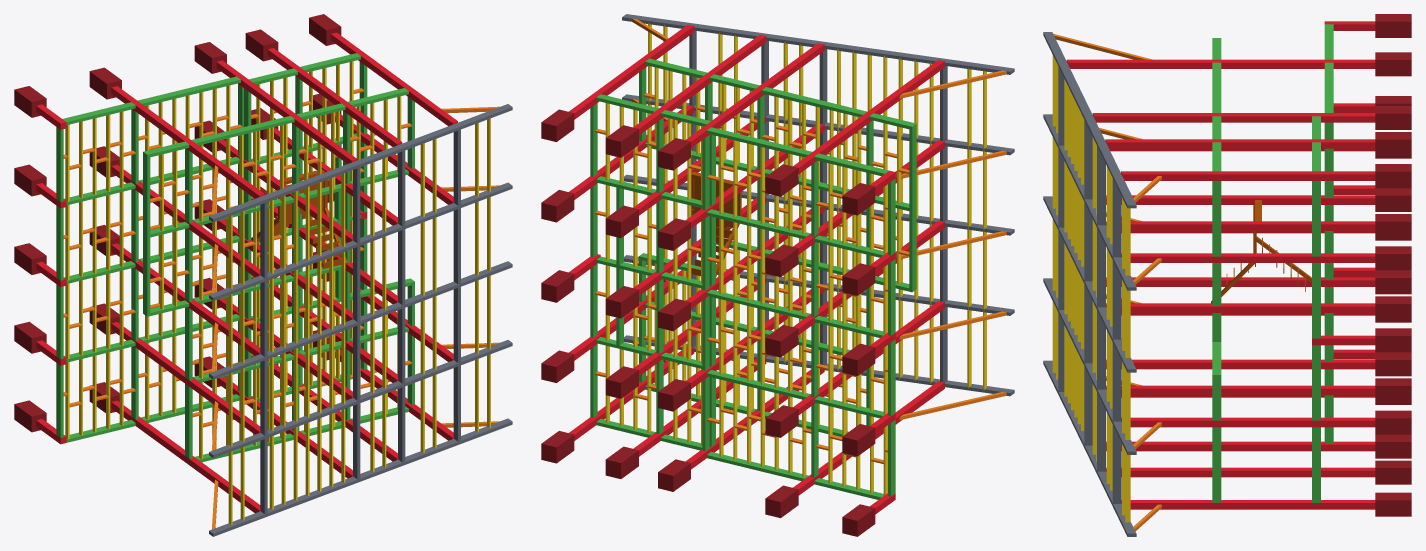
Rendered from tinker.obj.
3 renders of one model, left to right at view 1: azimuth 30°, elevation 25°; view 2: azimuth 150°, elevation 25°; view 3: azimuth 270°, elevation 25°, orthographic. The views are drawn at different scales.
Parts seen in each view (by area): view 1: obj_1, obj_20, obj_2, obj_15, obj_3, obj_4, obj_6, obj_11, obj_7, obj_21, obj_9, obj_16 (+45 smaller); view 2: obj_1, obj_2, obj_3, obj_4, obj_20, obj_15, obj_7, obj_6, obj_11, obj_21, obj_12, obj_16 (+62 smaller); view 3: obj_1, obj_2, obj_18, obj_3, obj_17, obj_22, obj_4, obj_16, obj_21, obj_9, obj_23, obj_13 (+59 smaller).
Part boxes in pixels (x1,y1,x2,y2): obj_1: (111,86,264,198); obj_20: (111,400,260,513); obj_2: (216,60,357,163); obj_15: (111,322,260,434); obj_3: (267,48,402,146); obj_4: (330,32,457,126); obj_6: (111,164,260,277); obj_11: (111,243,260,355); obj_7: (217,139,353,242); obj_21: (217,376,353,478); obj_9: (330,112,453,204); obj_16: (217,298,353,399); obj_1: (793,60,944,173); obj_2: (685,43,824,147); obj_3: (633,35,766,135); obj_4: (569,25,694,119); obj_20: (793,381,944,495); obj_15: (793,301,944,414); obj_7: (685,124,824,228); obj_6: (793,140,944,254); obj_11: (793,220,944,334); obj_21: (685,368,824,469); obj_12: (685,206,824,308); obj_16: (685,288,824,388); obj_1: (1066,59,1375,68); obj_2: (1092,113,1375,122); obj_18: (1121,417,1375,427); obj_3: (1105,139,1375,148); obj_17: (1106,385,1375,395); obj_22: (1106,467,1375,477); obj_4: (1121,171,1375,180); obj_16: (1106,359,1375,369); obj_21: (1106,441,1375,451); obj_9: (1121,253,1375,262); obj_23: (1121,500,1375,509); obj_13: (1106,303,1375,312).
Bounding box in the file's own units: 120 × 105 × 102.
